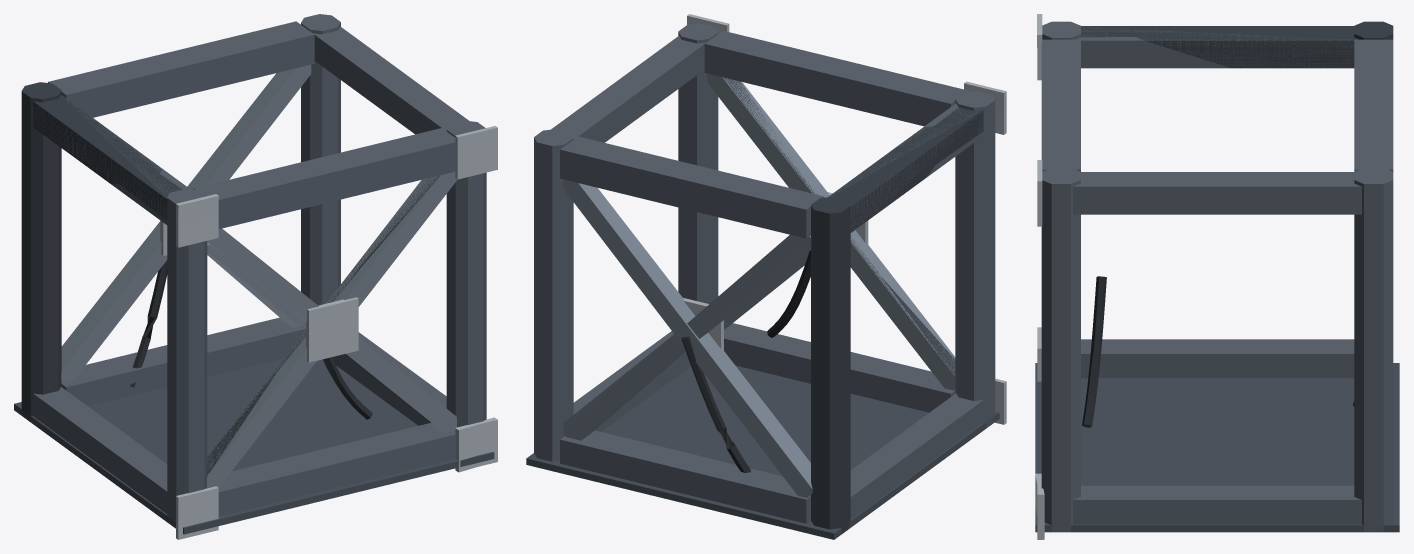
File: shr_cmp_generic_frame_alloy_a.glb
3 views of the same model, side by side, from view 1: azimuth 30°, elevation 25°; view 2: azimuth 150°, elevation 25°; view 3: azimuth 270°, elevation 25° (orthographic). The views are drawn at different scales.
Parts seen in each view (by area): view 1: mesh_heavy, mesh_intact, mesh_light; view 2: mesh_heavy, mesh_intact, mesh_light; view 3: mesh_heavy, mesh_intact, mesh_light.
Boxes of the visible parts, <box> form: mesh_heavy: <box>14,14,496,539</box>; mesh_intact: <box>33,64,497,520</box>; mesh_light: <box>33,68,440,513</box>; mesh_heavy: <box>526,23,1006,539</box>; mesh_intact: <box>563,14,1006,482</box>; mesh_light: <box>563,73,983,519</box>; mesh_heavy: <box>1035,14,1399,539</box>; mesh_intact: <box>1037,14,1354,539</box>; mesh_light: <box>1081,339,1354,378</box>.
Bounding box in the file's own units: 0.6082 × 0.608 × 0.5602.
